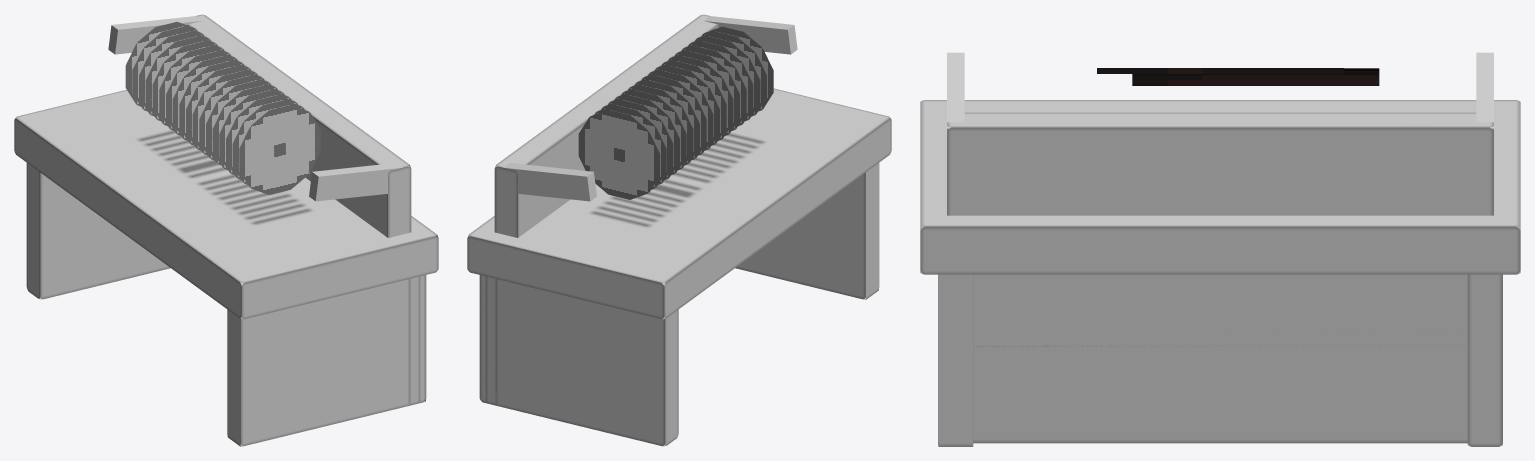
Rendered from itc__1.obj.
3 renders of one model, left to right at view 1: azimuth 30°, elevation 25°; view 2: azimuth 150°, elevation 25°; view 3: azimuth 270°, elevation 25°, orthographic. The views are drawn at different scales.
Parts seen in each view (by area): view 1: mesh, circle; view 2: mesh, circle; view 3: mesh, cylinder.
Part boxes in pixels (box(x1,y1,x2,y2)): mesh: box(14, 14, 438, 446); circle: box(125, 22, 320, 194); mesh: box(467, 14, 891, 446); circle: box(578, 26, 773, 199); mesh: box(920, 52, 1520, 446); cylinder: box(1097, 68, 1379, 85).
Size of the model in its own units: 1.06 by 1.43 by 2.12.
